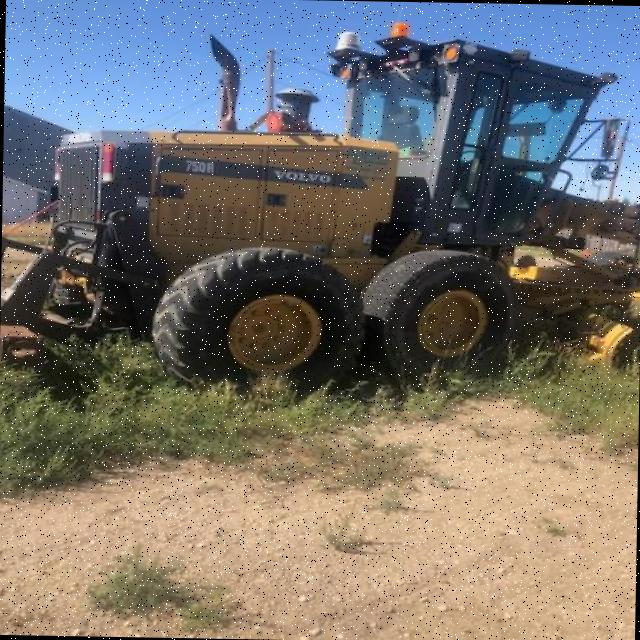Grader: (12, 9, 640, 426)
